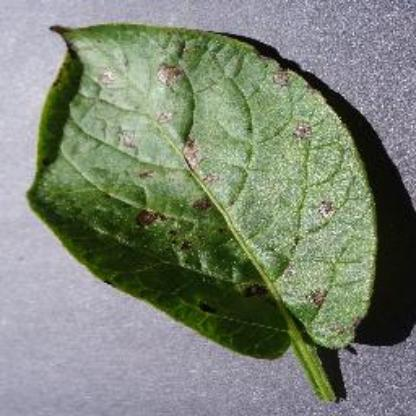Early-Blight: (24, 16, 396, 404)
